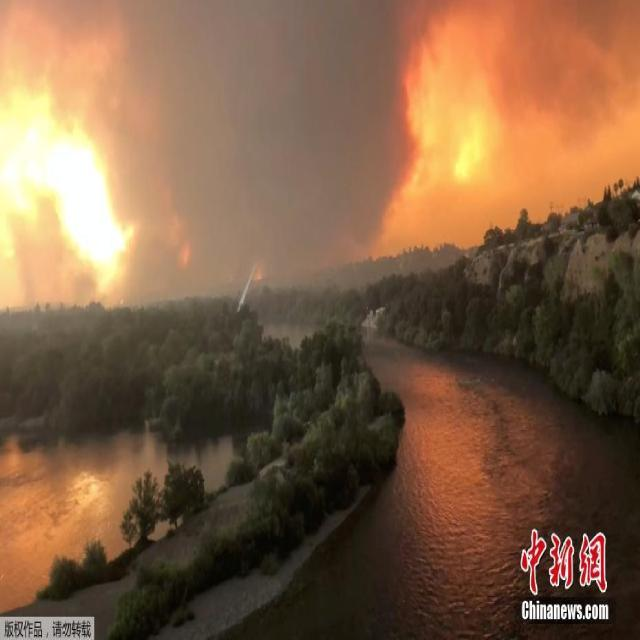fire: (0, 75, 145, 282), (412, 33, 576, 216)
smoke: (114, 18, 415, 261)
